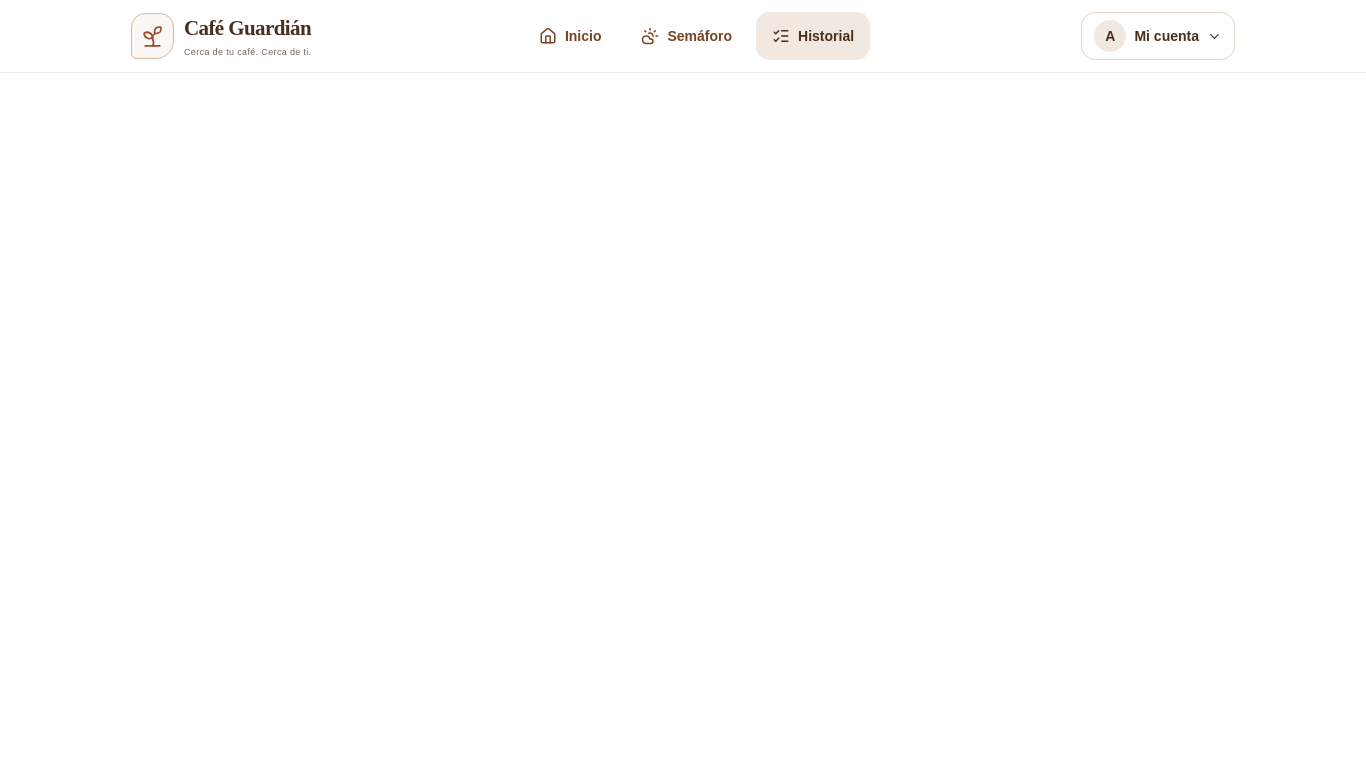
Test: AppNavigation › abre el menú con opciones de cuenta, suscripción y ayuda, y lo cierra con Escape
The width and height of the screenshot is (1366, 768).
Later steps or results of the test are not shown.
Click the button with aria-label "Abrir menú de usuario" at (1158, 36), box [1081,12,1235,60]
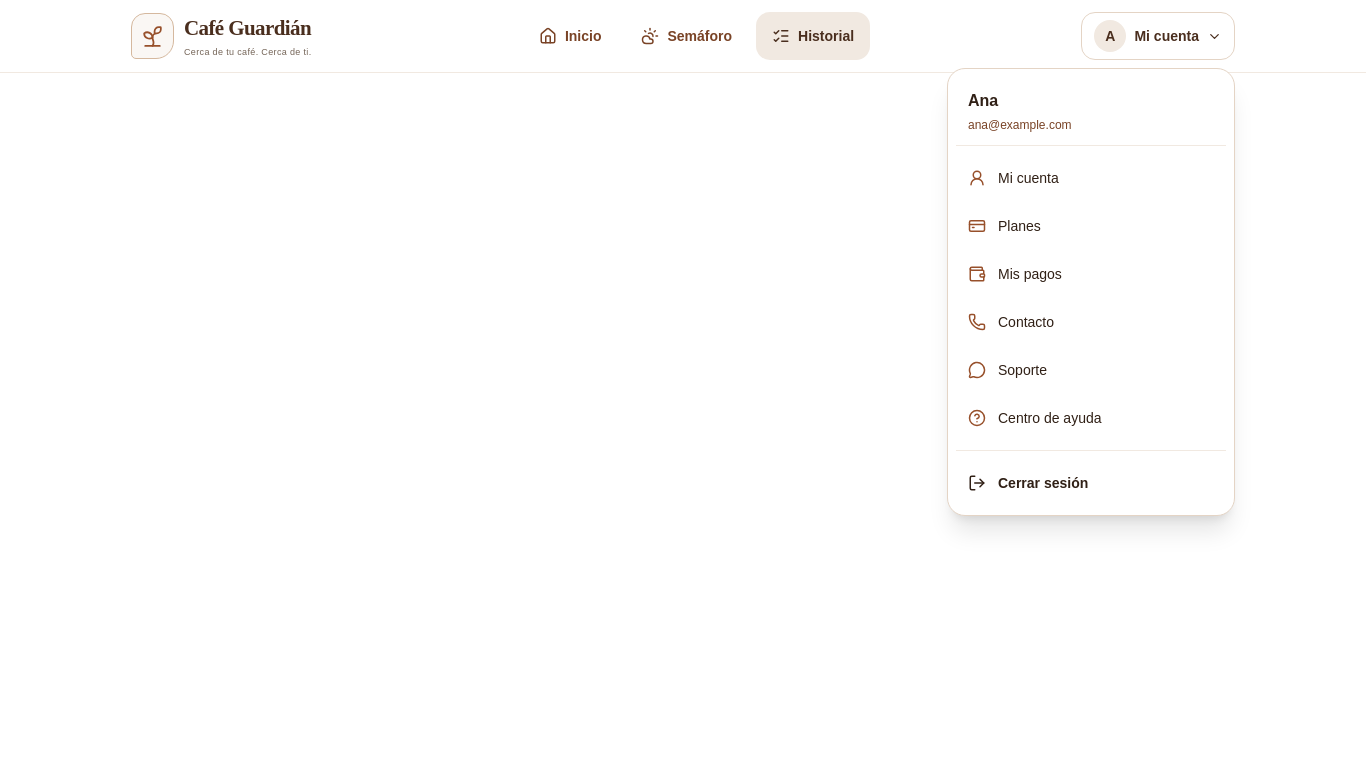
Now the text "ana@example.com" is shown, box [968,118,1072,132]
